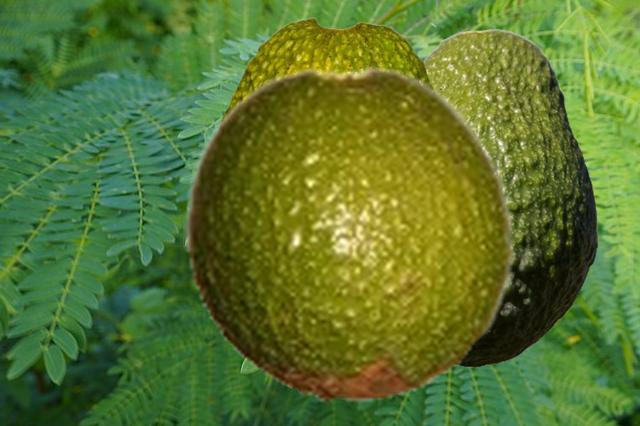avocado: (183, 65, 517, 403), (422, 28, 596, 366), (219, 17, 432, 118)
